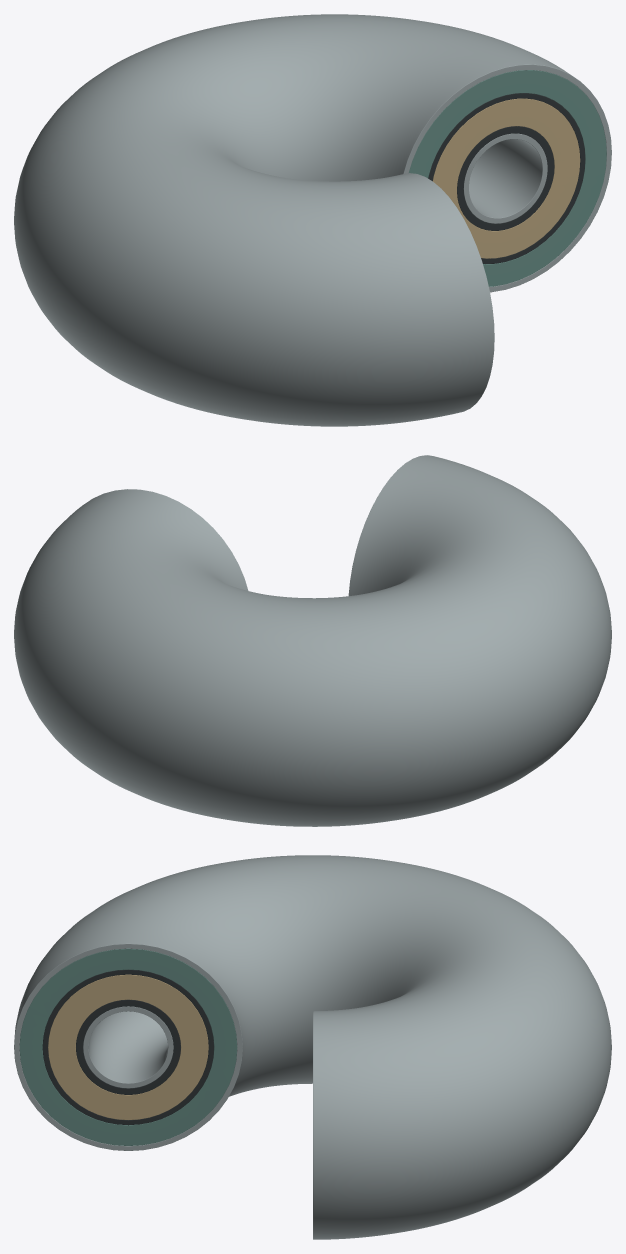
The model's file is blanket.glb.
The picture shows the model from 3 angles, top to bottom: view 1: azimuth 30°, elevation 25°; view 2: azimuth 150°, elevation 25°; view 3: azimuth 270°, elevation 25°; orthographic projection. The views are drawn at different scales.
Parts seen in each view (by area): view 1: Eurofer97 tank, FLiBe blanket, Hg-Li multiplier, W armor, Outer V4Cr4Ti structure, Inner V4Cr4Ti structure; view 2: Eurofer97 tank; view 3: Eurofer97 tank, FLiBe blanket, Hg-Li multiplier, W armor, Outer V4Cr4Ti structure, Inner V4Cr4Ti structure.
Part boxes in pixels (left/top/right/bottom): Eurofer97 tank: left=14, top=14, right=611, bottom=426; FLiBe blanket: left=409, top=70, right=606, bottom=286; Hg-Li multiplier: left=432, top=98, right=580, bottom=258; W armor: left=463, top=133, right=547, bottom=223; Outer V4Cr4Ti structure: left=428, top=93, right=585, bottom=263; Inner V4Cr4Ti structure: left=457, top=126, right=554, bottom=230; Eurofer97 tank: left=14, top=455, right=611, bottom=826; Eurofer97 tank: left=14, top=855, right=611, bottom=1239; FLiBe blanket: left=19, top=948, right=237, bottom=1145; Hg-Li multiplier: left=48, top=974, right=208, bottom=1119; W armor: left=83, top=1006, right=173, bottom=1088; Outer V4Cr4Ti structure: left=42, top=969, right=214, bottom=1125; Inner V4Cr4Ti structure: left=76, top=999, right=180, bottom=1094.
Bounding box in the file's own units: 6.48 × 2.48 × 6.48.
